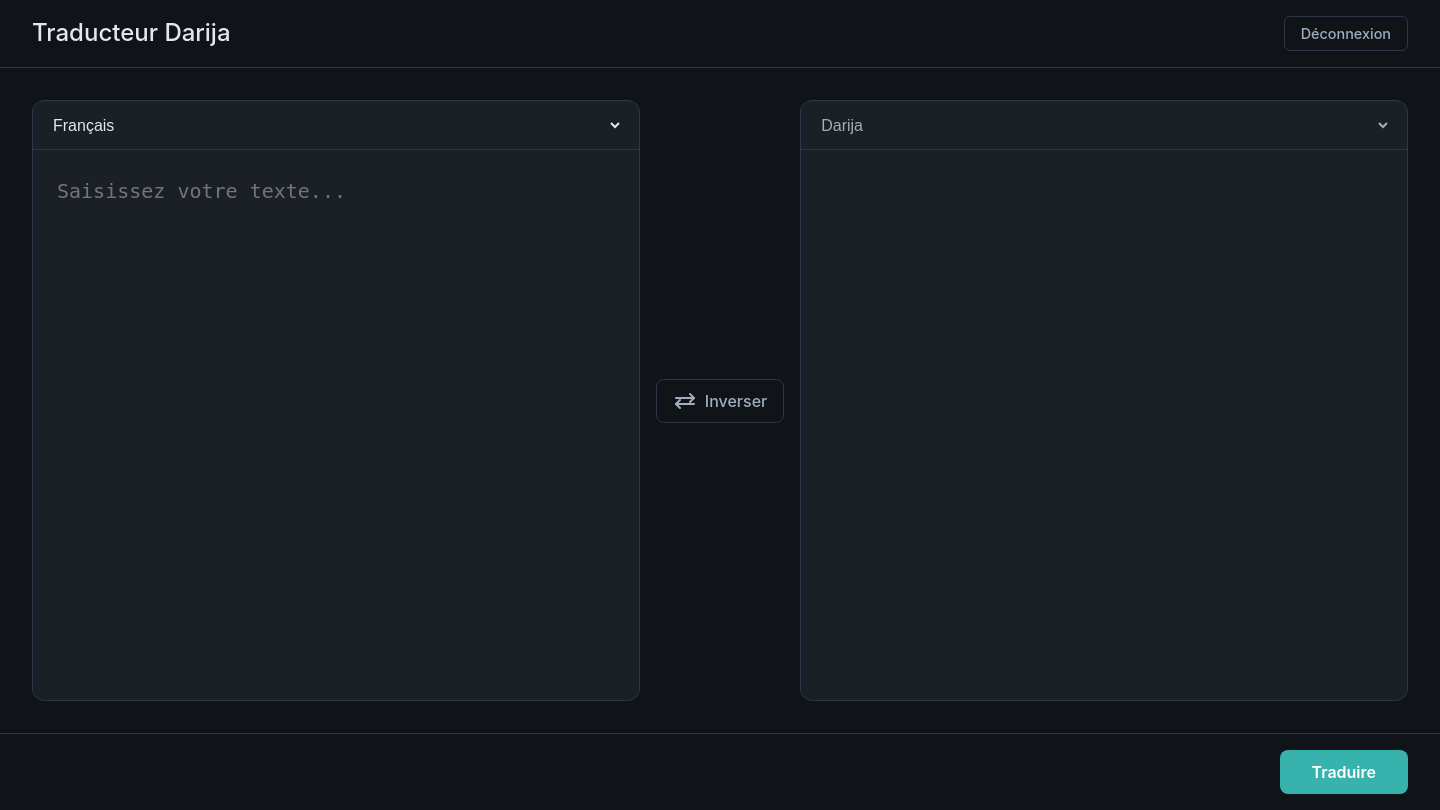
it: TranslatorPage › devrait inverser les langues et les textes
Type "Bonjour" into the text box with placeholder "Saisissez votre texte...".
click(336, 425); type("Bonjour")  # box [33,150,639,700]
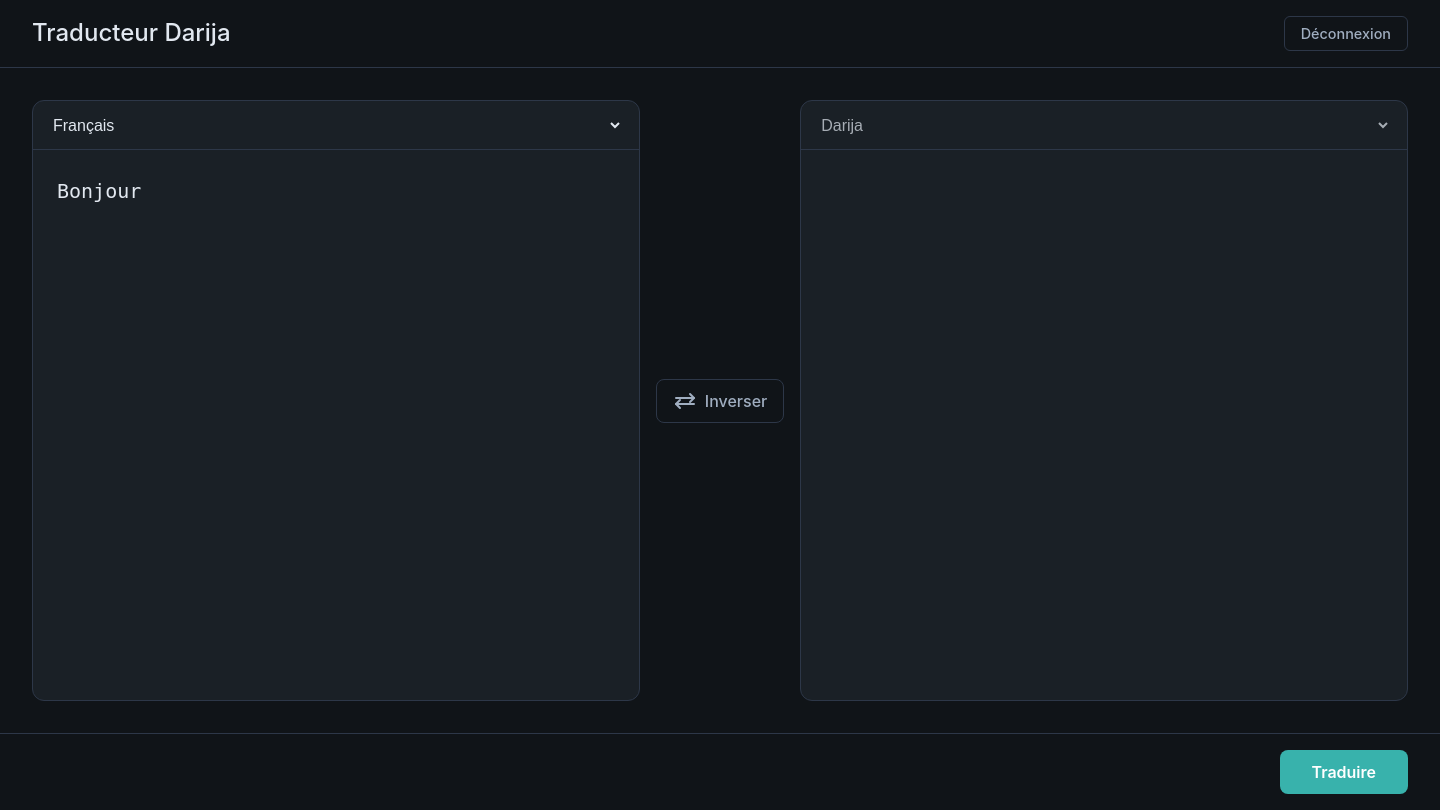
Click the button "Traduire".
click(1344, 772)  # box [1280,750,1408,794]
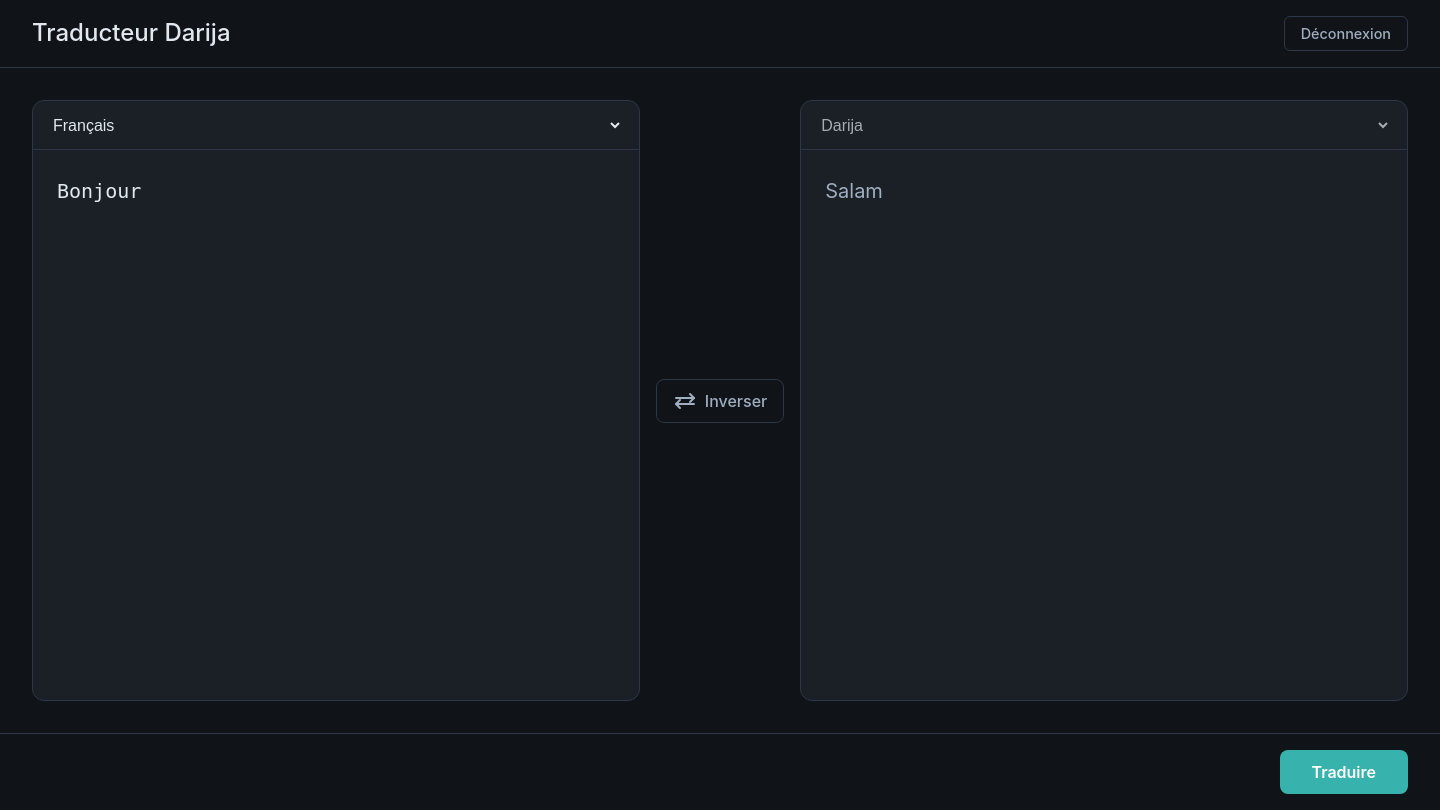
expect the text "Salam" is shown: met, box [825,179,883,203]
Click the button "Inverser".
click(720, 400)  # box [656,378,784,422]
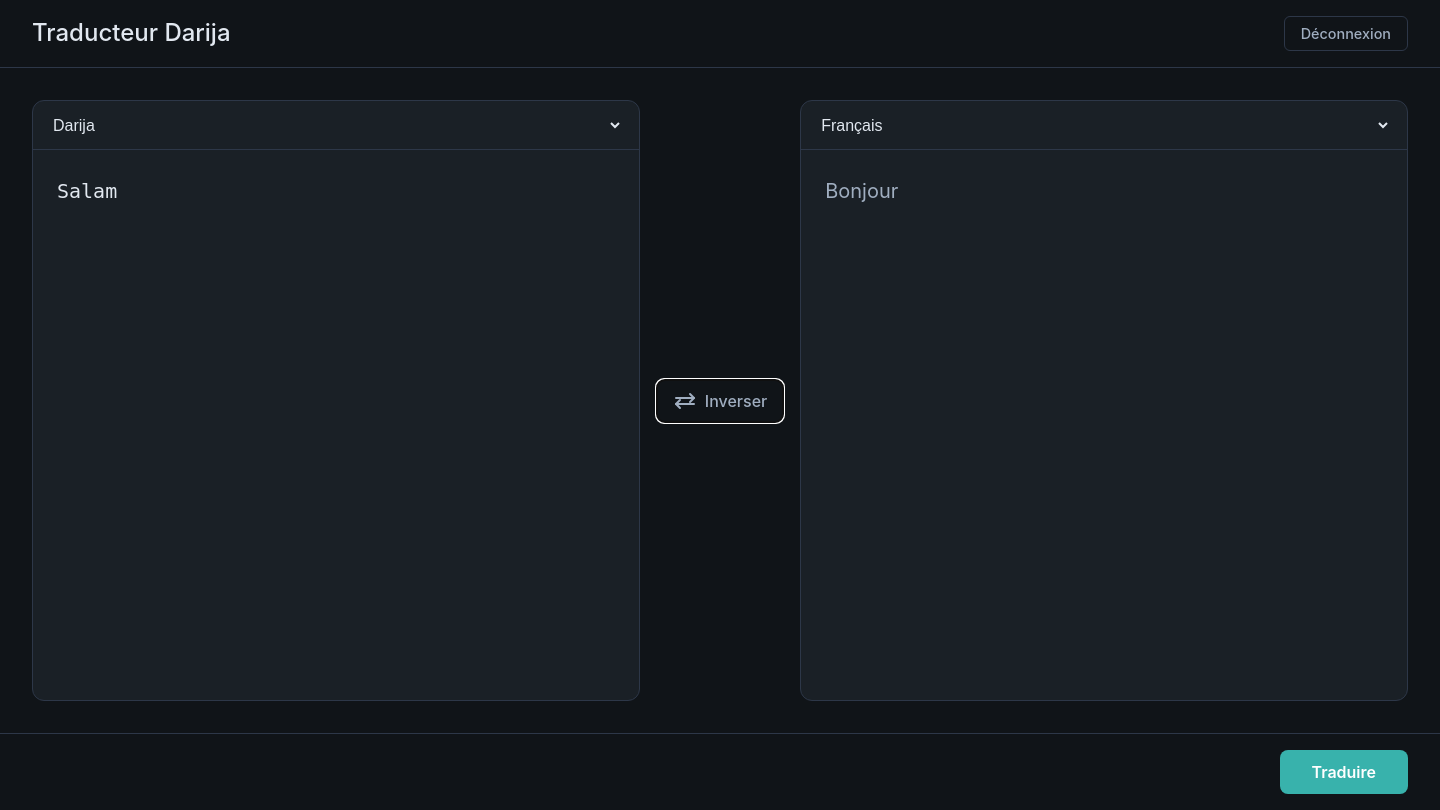
expect the text box with placeholder "Saisissez votre texte..." holds "Salam": met, box [33,150,639,700]
expect the text "Bonjour" is shown: met, box [825,179,898,203]
